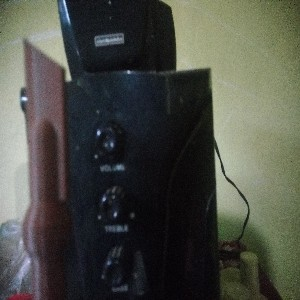cutter: (20, 37, 69, 300)
